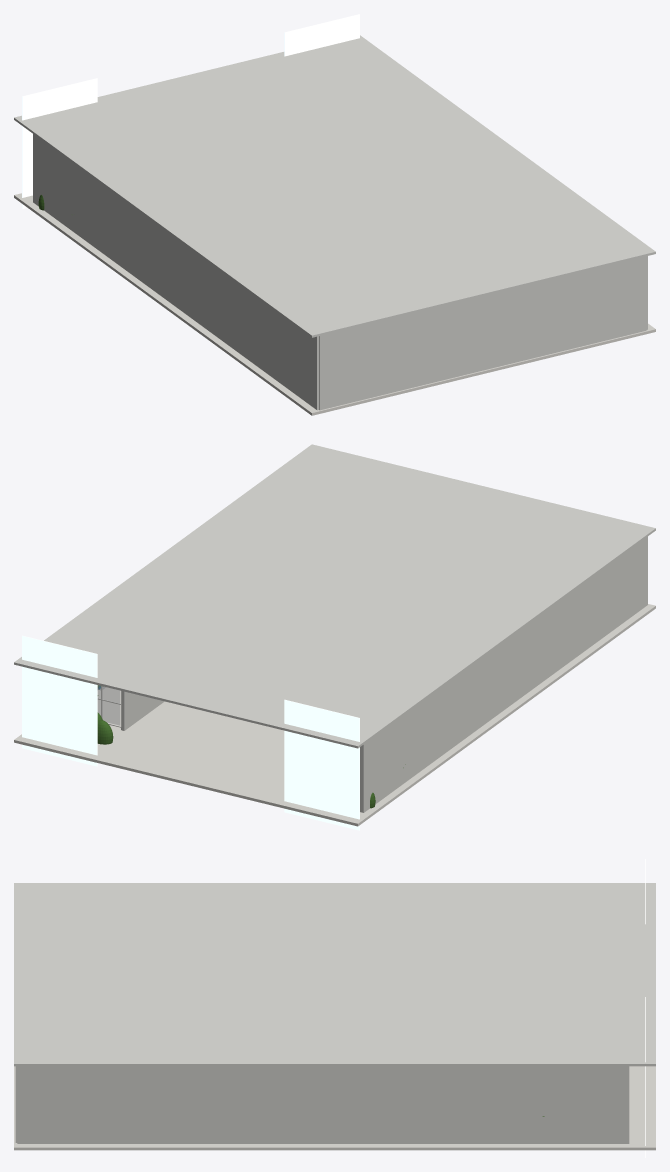
The model's file is nurse-station-design-v3.glb.
The picture shows the model from 3 angles, top to bottom: view 1: azimuth 30°, elevation 25°; view 2: azimuth 150°, elevation 25°; view 3: azimuth 270°, elevation 25°; orthographic projection. The views are drawn at different scales.
Parts seen in each view (by area): view 1: Ceiling, Lobby_Back_Wall, 墙壁, 地板, Lobby_Side_Return_-1, Exterior_Sky_-1, Exterior_Sky_1; view 2: Ceiling, 地板, 墙壁, Exterior_Sky_-1, Exterior_Sky_1, Lobby_Side_Return_-1, Corridor_Inner_Wall_1, Window_Glazing_1; view 3: Ceiling, 墙壁2, 地板, Lobby_Side_Return_1.
Boxes of the visible parts, x1=… form: Ceiling: x1=14, y1=35, x2=655, y2=337; Lobby_Back_Wall: x1=319, y1=256, x2=646, y2=410; 墙壁: x1=33, y1=134, x2=281, y2=383; 地板: x1=14, y1=193, x2=655, y2=415; Lobby_Side_Return_-1: x1=281, y1=315, x2=318, y2=410; Exterior_Sky_-1: x1=22, y1=78, x2=97, y2=208; Exterior_Sky_1: x1=284, y1=14, x2=359, y2=56; Ceiling: x1=14, y1=444, x2=655, y2=748; 地板: x1=14, y1=604, x2=655, y2=826; 墙壁: x1=360, y1=563, x2=611, y2=812; Exterior_Sky_-1: x1=284, y1=699, x2=359, y2=830; Exterior_Sky_1: x1=22, y1=635, x2=97, y2=766; Lobby_Side_Return_-1: x1=612, y1=536, x2=647, y2=630; Corridor_Inner_Wall_1: x1=121, y1=691, x2=164, y2=730; Window_Glazing_1: x1=98, y1=685, x2=119, y2=725; Ceiling: x1=14, y1=883, x2=655, y2=1066; 墙壁2: x1=94, y1=1066, x2=629, y2=1143; 地板: x1=14, y1=1066, x2=655, y2=1150; Lobby_Side_Return_1: x1=17, y1=1066, x2=94, y2=1143.
Bounding box in the file's own units: 16 × 5 × 24.
Materials: 19 (2 with a texture image).
